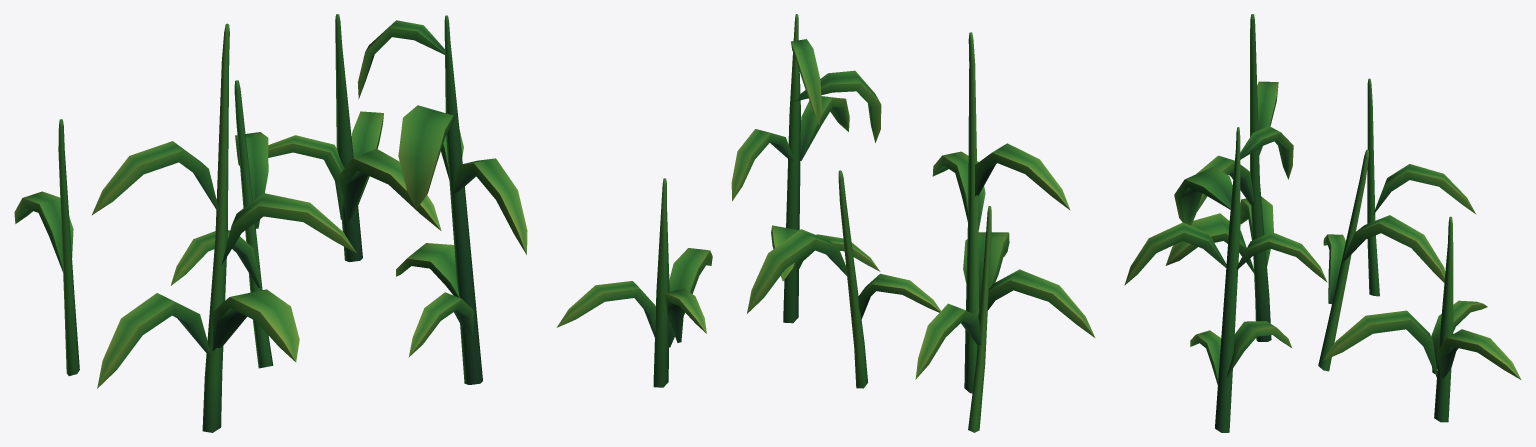
Rendered from SM_Plant_Corn_Lv1.fbx.
3 views of the same model, side by side, from view 1: azimuth 30°, elevation 25°; view 2: azimuth 150°, elevation 25°; view 3: azimuth 270°, elevation 25° (orthographic). The views are drawn at different scales.
Parts seen in each view (by area): view 1: SM_Plant_Corn_Lv1; view 2: SM_Plant_Corn_Lv1; view 3: SM_Plant_Corn_Lv1.
Part boxes in pixels (x1,y1,x2,y2): SM_Plant_Corn_Lv1: (14, 14, 527, 432); SM_Plant_Corn_Lv1: (556, 14, 1095, 432); SM_Plant_Corn_Lv1: (1124, 14, 1521, 432).
Bounding box in the file's own units: 57.25 × 49.47 × 53.73.
